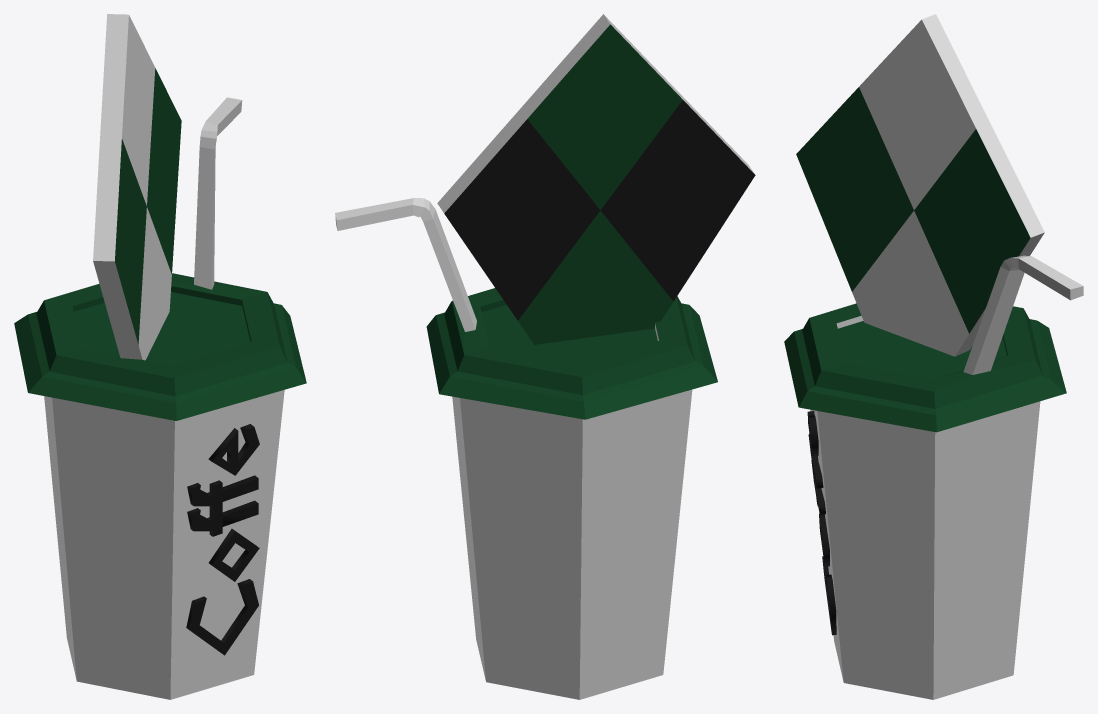
The model's file is коферомб1.fbx.
3 renders of one model, left to right at view 1: azimuth 30°, elevation 25°; view 2: azimuth 150°, elevation 25°; view 3: azimuth 270°, elevation 25°, orthographic. The views are drawn at different scales.
Visible parts, largest first — view 1: чашка; view 2: чашка; view 3: чашка.
Part boxes in pixels (x1,y1,x2,y2): чашка: (14,14,306,699); чашка: (335,14,755,699); чашка: (784,14,1083,699).
Bounding box in the file's own units: 155 × 323 × 140.
